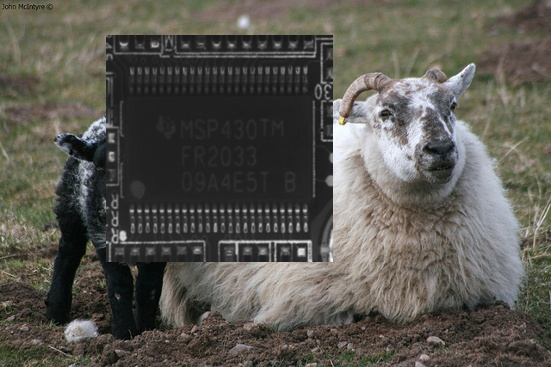PIN: (118, 194, 316, 237), (119, 62, 316, 105)
sheep: (160, 60, 523, 318), (45, 116, 189, 336)
